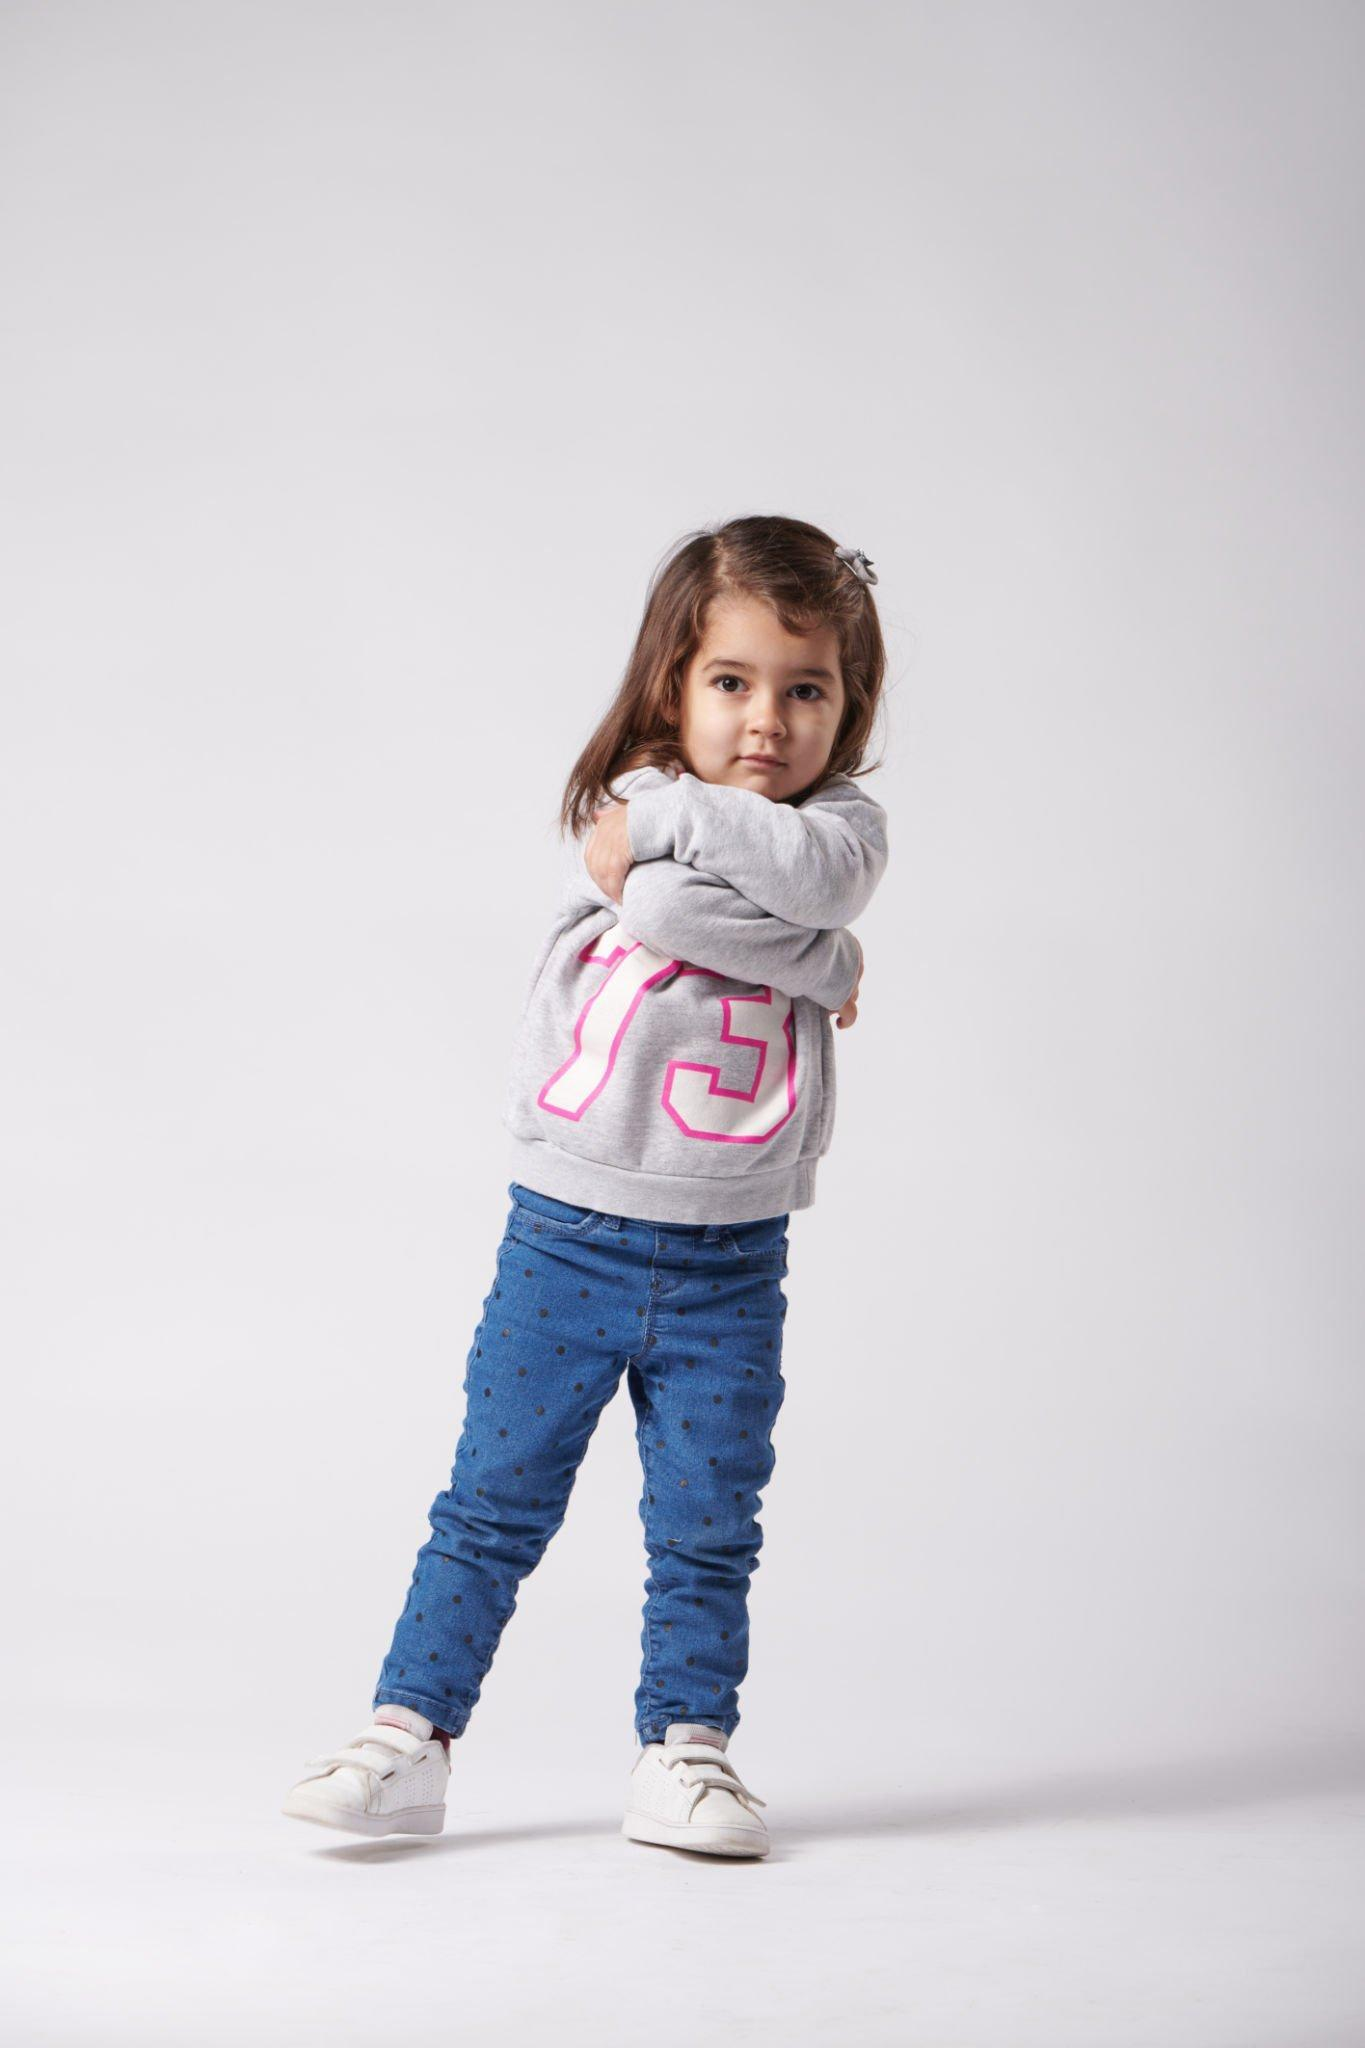Healthy: (667, 547, 882, 822)
